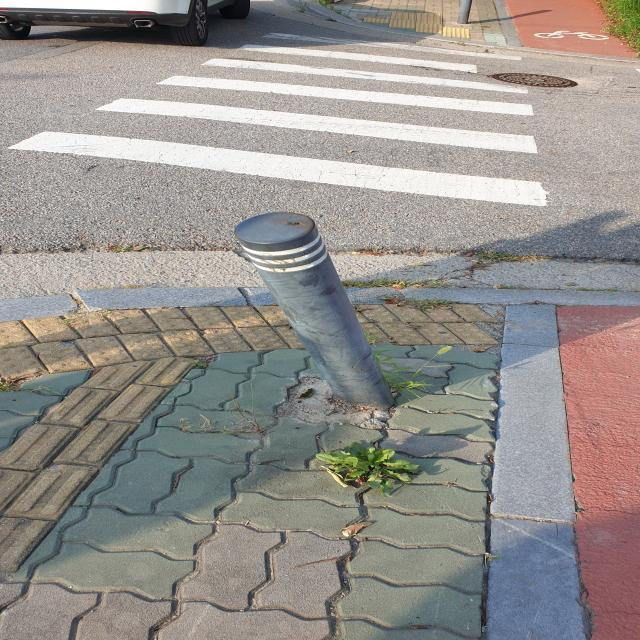pole: (234, 212, 392, 409)
